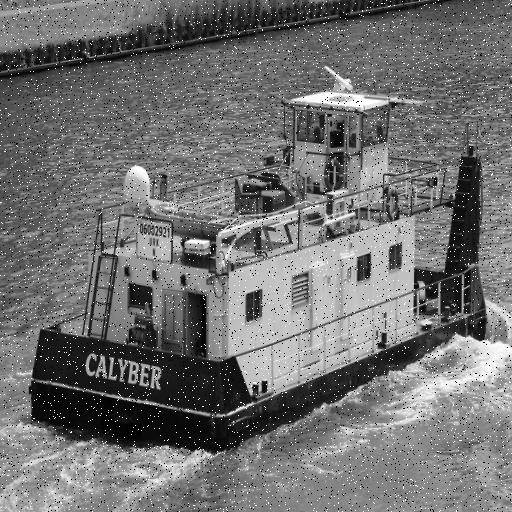tugboat: (28, 63, 494, 466)
